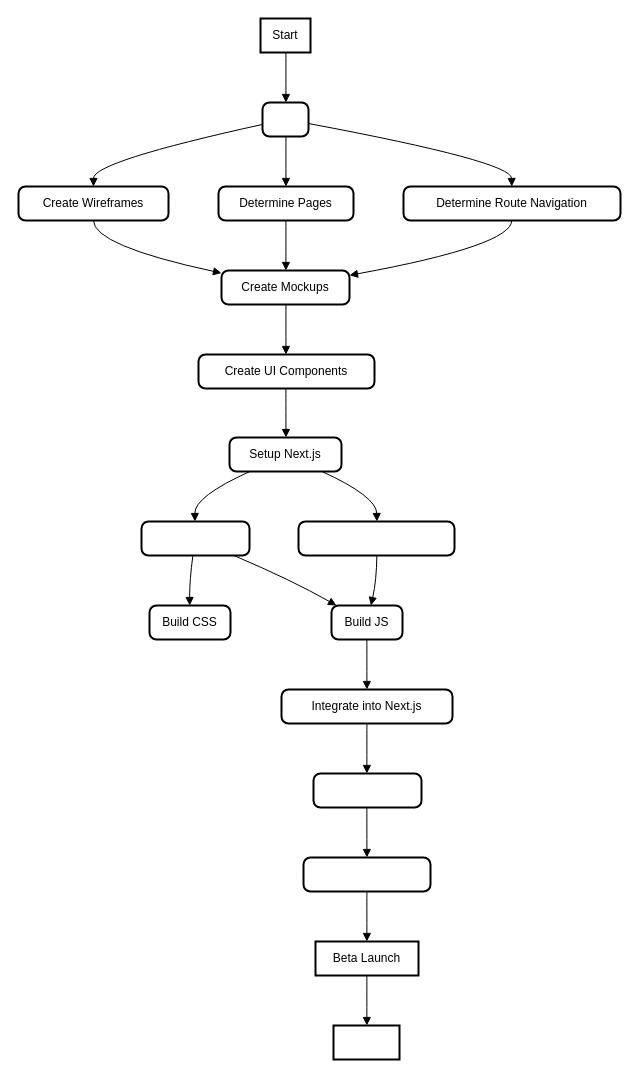
This 638x1077 diagram has some shape labels left out. Each missing label, with the box of its shape:
Create Components: (297, 520, 455, 556)
Create Pages: (140, 520, 250, 556)
Launch: (332, 1024, 400, 1060)
Perform Testing: (302, 856, 431, 892)
Plan: (261, 101, 309, 137)
Polish Design: (312, 772, 422, 808)
